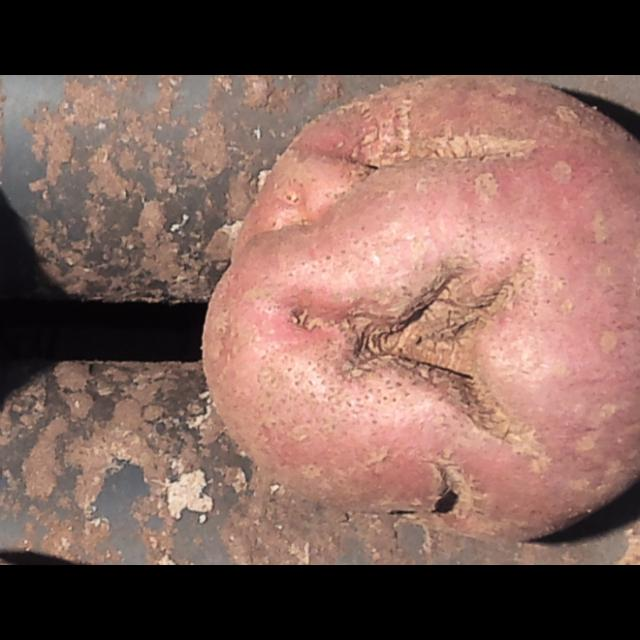Defected potato: (170, 78, 640, 556)
